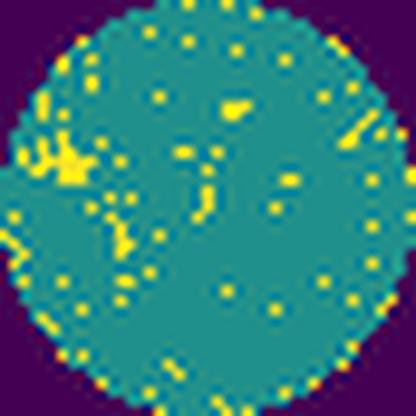Loc: (16, 136, 100, 186)
